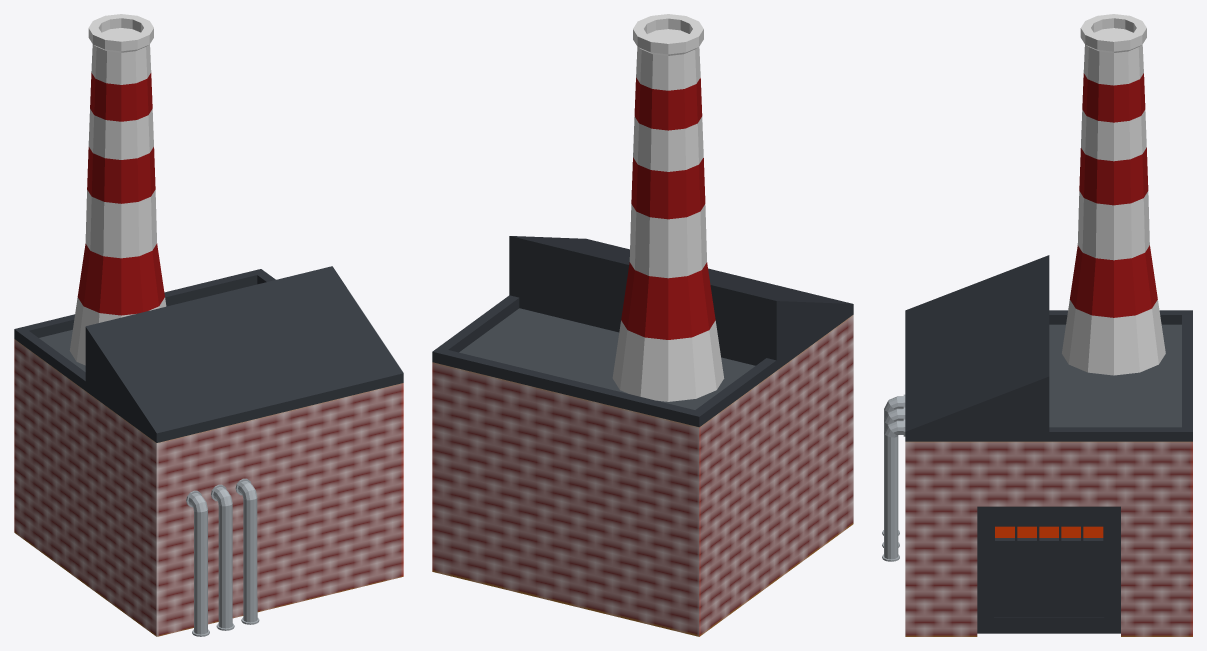
Rendered from HeavyFurnace.fbx.
The picture shows the model from 3 angles, left to right: view 1: azimuth 30°, elevation 25°; view 2: azimuth 150°, elevation 25°; view 3: azimuth 270°, elevation 25°; orthographic projection. The views are drawn at different scales.
Visible parts, largest first — view 1: HeavyFurnace, HeavyFurnace_Chimney, HeavyFurnace_Pipes; view 2: HeavyFurnace, HeavyFurnace_Chimney; view 3: HeavyFurnace, HeavyFurnace_Chimney, HeavyFurnace_Door, HeavyFurnace_Pipes.
Boxes of the visible parts, <box> form: HeavyFurnace: <box>14,266,403,636</box>; HeavyFurnace_Chimney: <box>69,14,166,365</box>; HeavyFurnace_Pipes: <box>186,478,259,636</box>; HeavyFurnace: <box>432,236,853,636</box>; HeavyFurnace_Chimney: <box>612,14,724,401</box>; HeavyFurnace: <box>905,255,1192,636</box>; HeavyFurnace_Chimney: <box>1062,14,1165,375</box>; HeavyFurnace_Door: <box>977,506,1120,633</box>; HeavyFurnace_Pipes: <box>882,394,905,561</box>.
Bounding box in the file's own units: 400 × 800 × 432.
